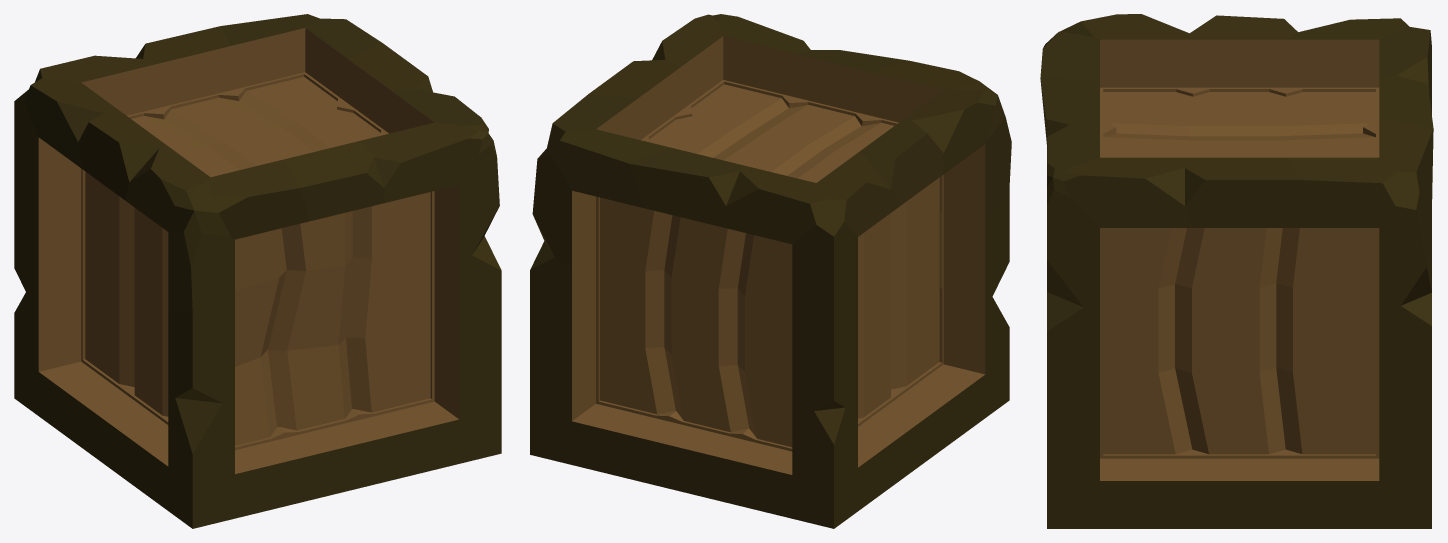
3 views of the same model, side by side, from view 1: azimuth 30°, elevation 25°; view 2: azimuth 150°, elevation 25°; view 3: azimuth 270°, elevation 25° (orthographic). The views are drawn at different scales.
Visible parts, largest first — view 1: crate.027; view 2: crate.027; view 3: crate.027.
Part boxes in pixels (<box>): crate.027: <box>14,14,501,528</box>; crate.027: <box>530,14,1011,528</box>; crate.027: <box>1040,14,1433,528</box>.
Size of the model in its own units: 121 by 122 by 123.
